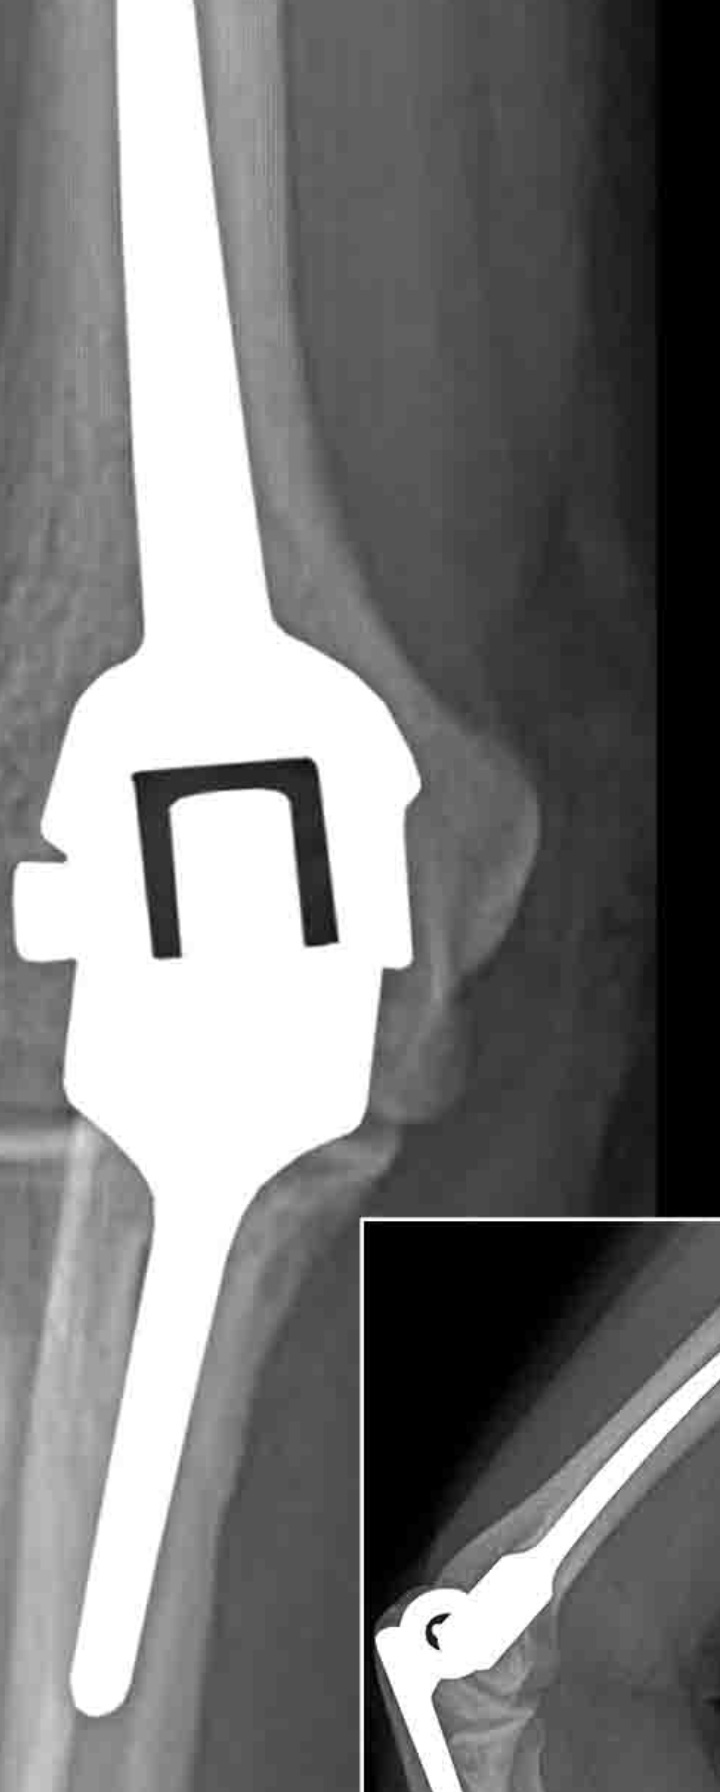Elbow - Osteonics - Stryker: (6, 1, 522, 1509), (363, 1253, 720, 1787)
